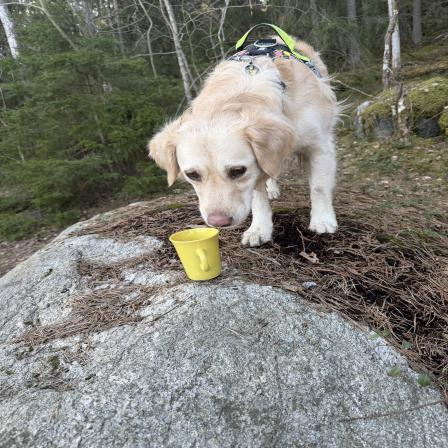yellow_cup: (168, 227, 224, 284)
